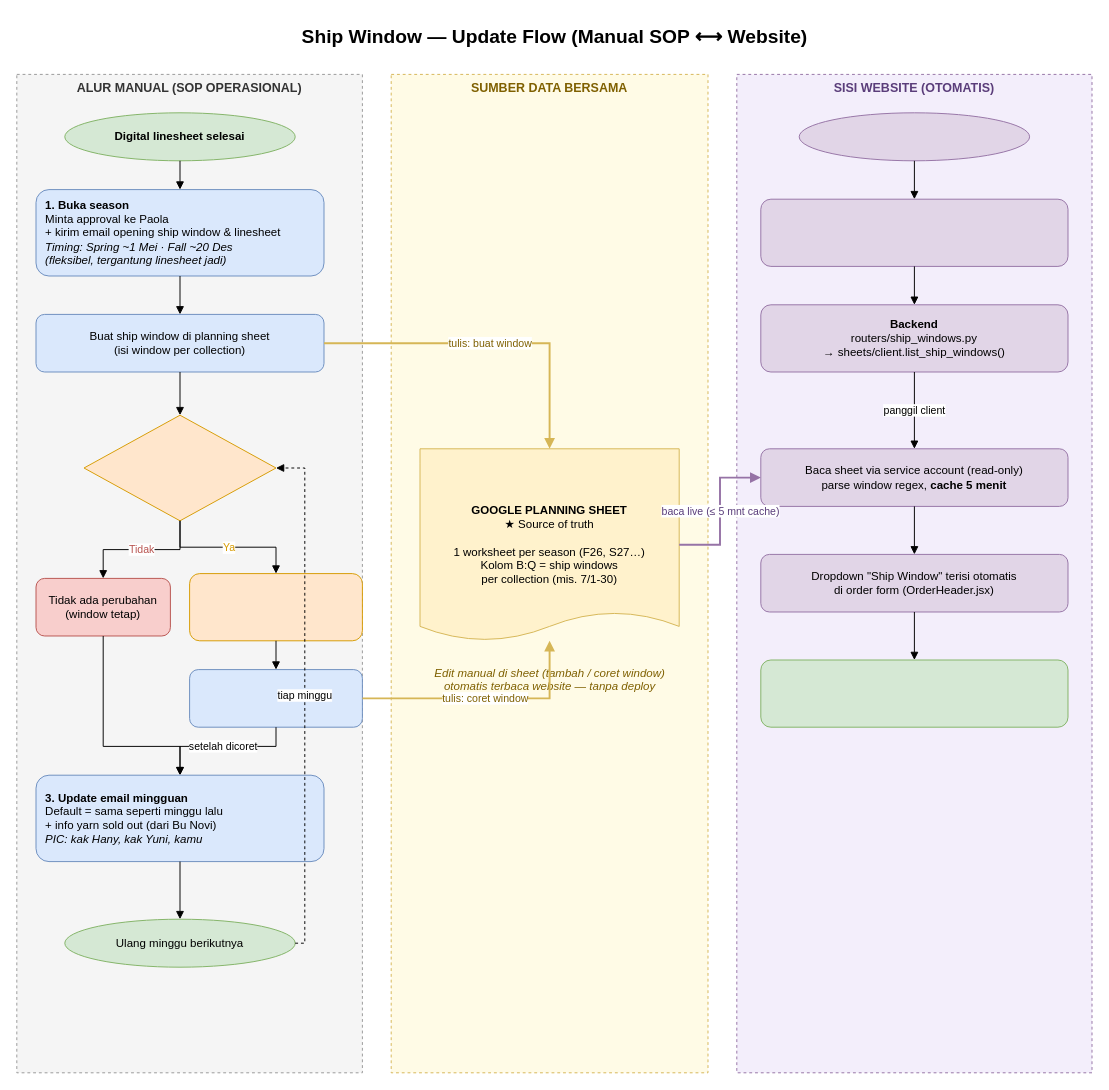
The diagram is 1109 pixels wide and 1090 high, and some of its shapes have lost their labels. The shapes that lost their labels are listed below. From the top down, each one's box as (x1, y1, x2, y2) in pixels, then its label:
(798, 112, 1030, 161): Buyer buka order form & pilih season
(760, 198, 1068, 266): Frontend api.js → getShipWindows(season) GET /api/ship-windows?season=F26
(83, 414, 276, 521): 2. Cek mingguan Ada window yang close ≤ 7 hari ke depan?
(189, 573, 362, 641): Konfirmasi dulu ke Bu Novi wajib untuk window final (mis. 7/30 untuk S26)
(189, 669, 362, 727): Coret / hapus tanggal window di planning sheet
(760, 659, 1068, 727): Buyer submit order → shipWindow tersimpan di order (PostgreSQL + PDF)
